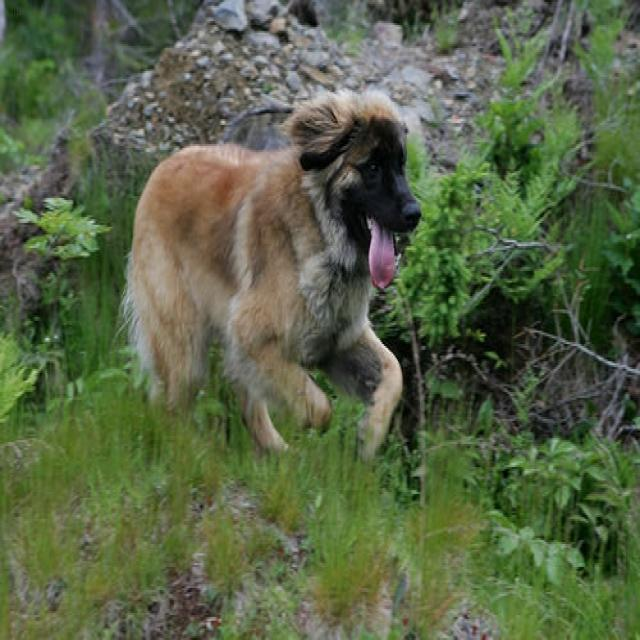dog-leonberger: (110, 79, 433, 471)
